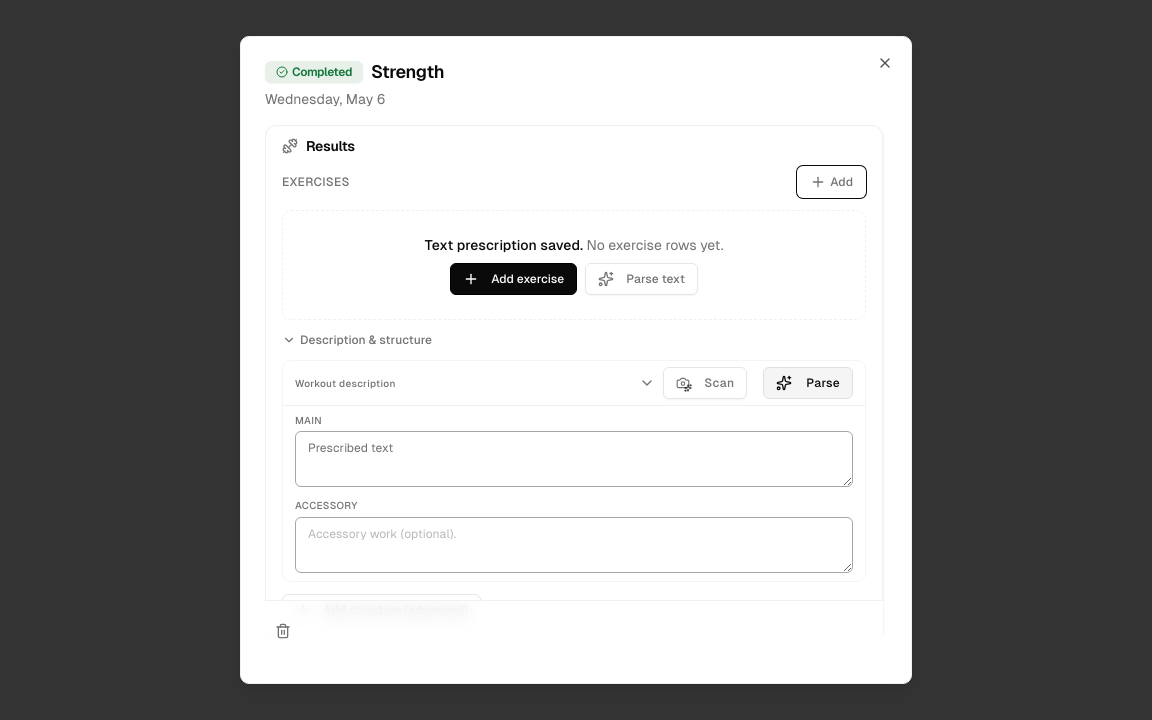
Test: ReviewSurface › says a deleted planned session stays on the plan (CL23)
Click the button with test id "review-delete-entry-1".
click(283, 631)  # box [265, 613, 301, 649]
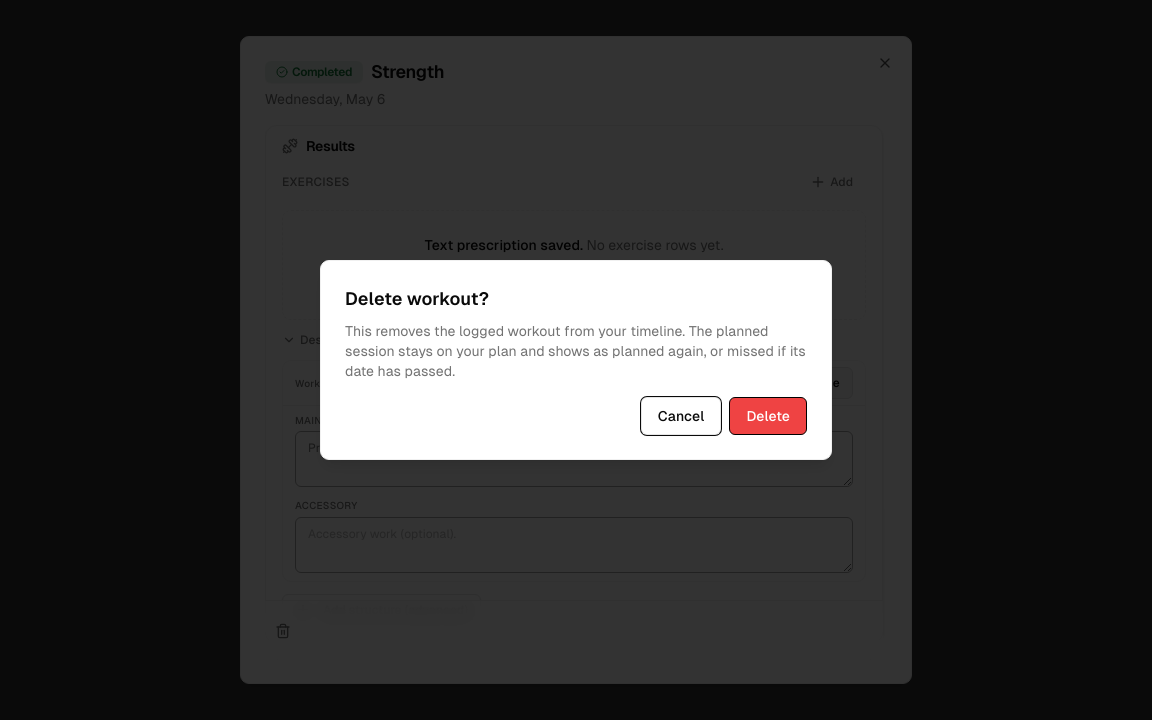
Check: the dialog that starts with "Delete workout?" shows "The planned session stays on your plan and shows as planned again, or missed if its date has passed.", box [345, 323, 806, 379]
